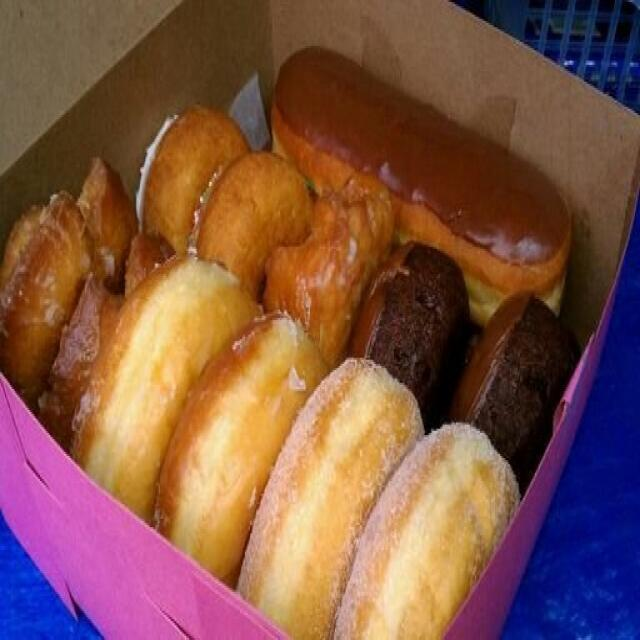Donuts: (4, 52, 558, 640)
